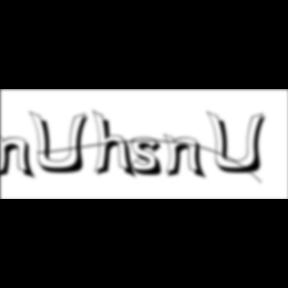U: (28, 110, 94, 176), (207, 110, 272, 176)
h: (92, 108, 140, 182)
n: (164, 132, 210, 181), (1, 132, 40, 181)
s: (131, 137, 170, 179)
